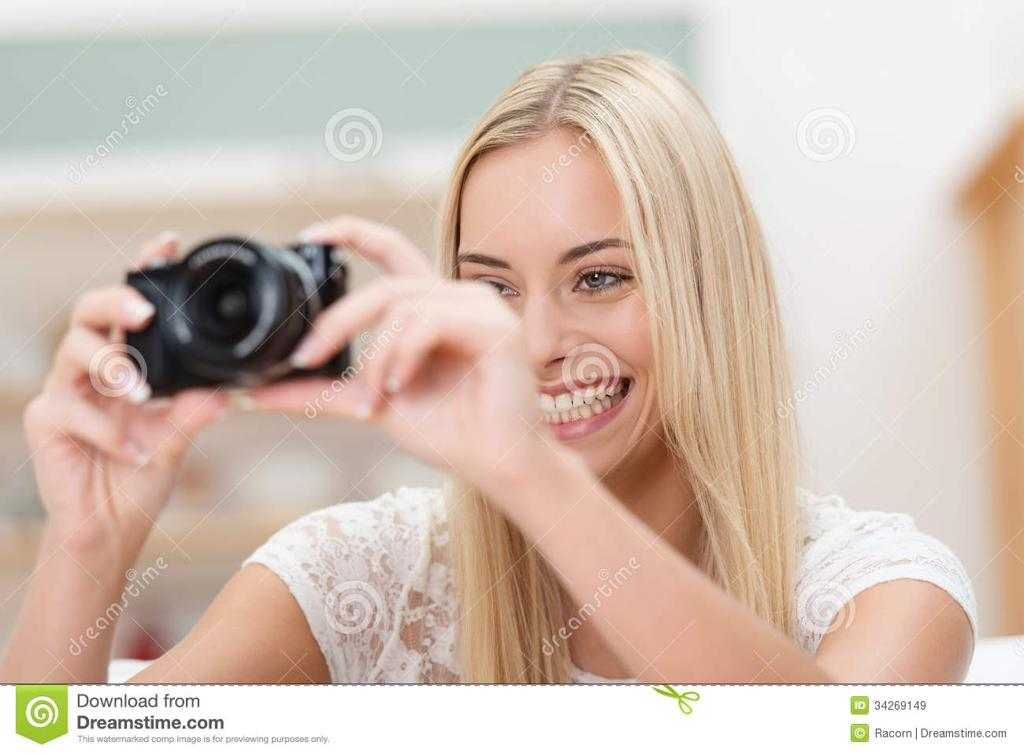face: (448, 154, 678, 492)
